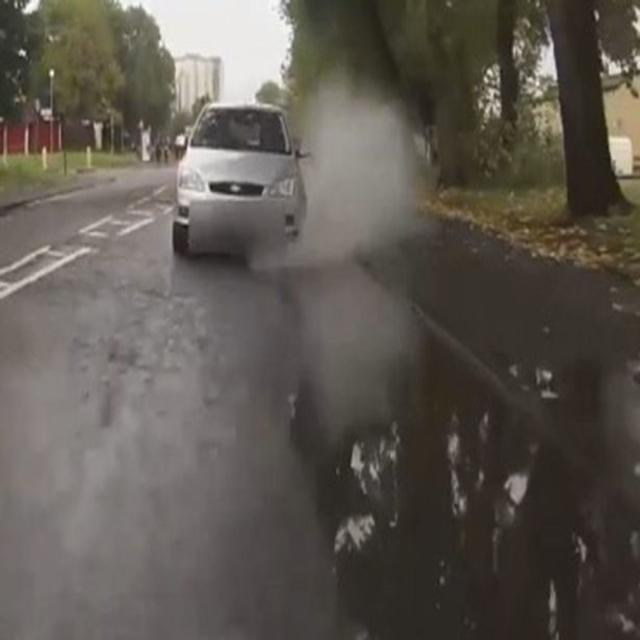car: (176, 102, 310, 265)
